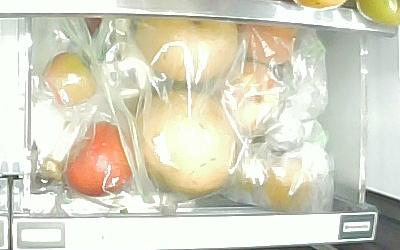peach_vinyl: (218, 61, 285, 136)
pear_vinyl: (134, 89, 237, 196), (128, 14, 240, 85)
tomato_vinyl: (65, 119, 134, 198), (43, 51, 95, 106)
